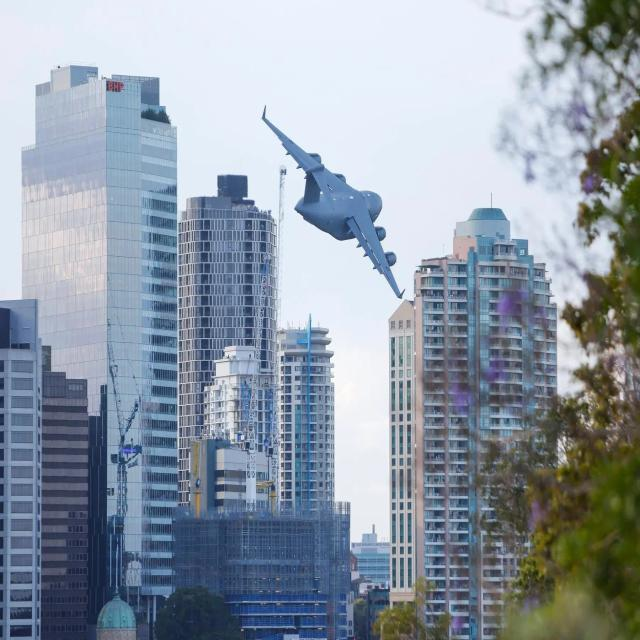MIL_Plane: (261, 105, 406, 299)
